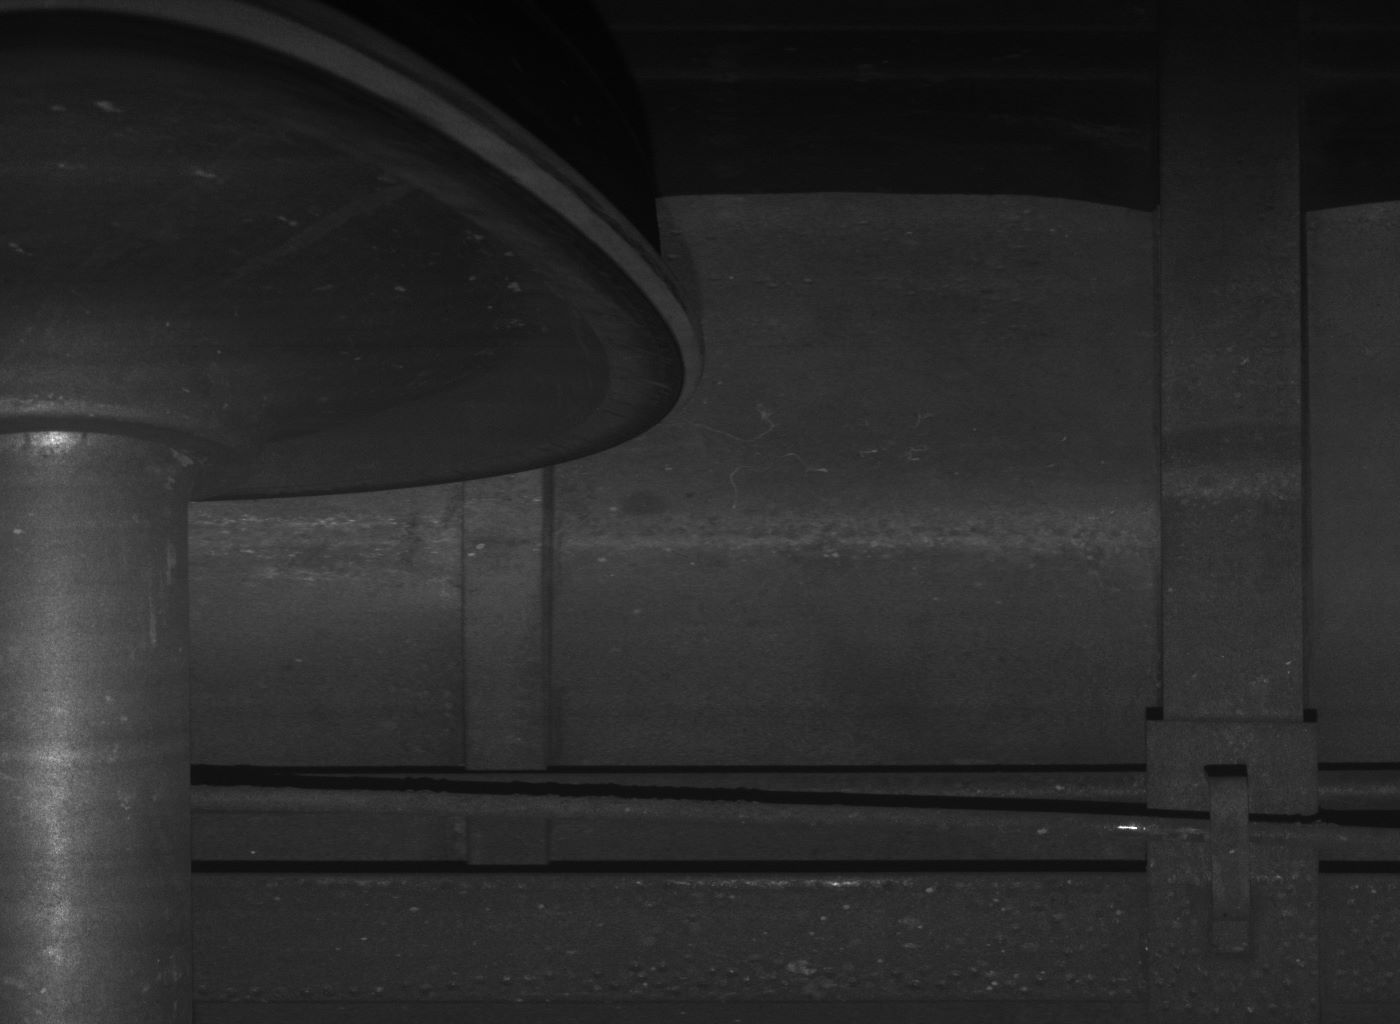normal: (1207, 776, 1251, 956)
